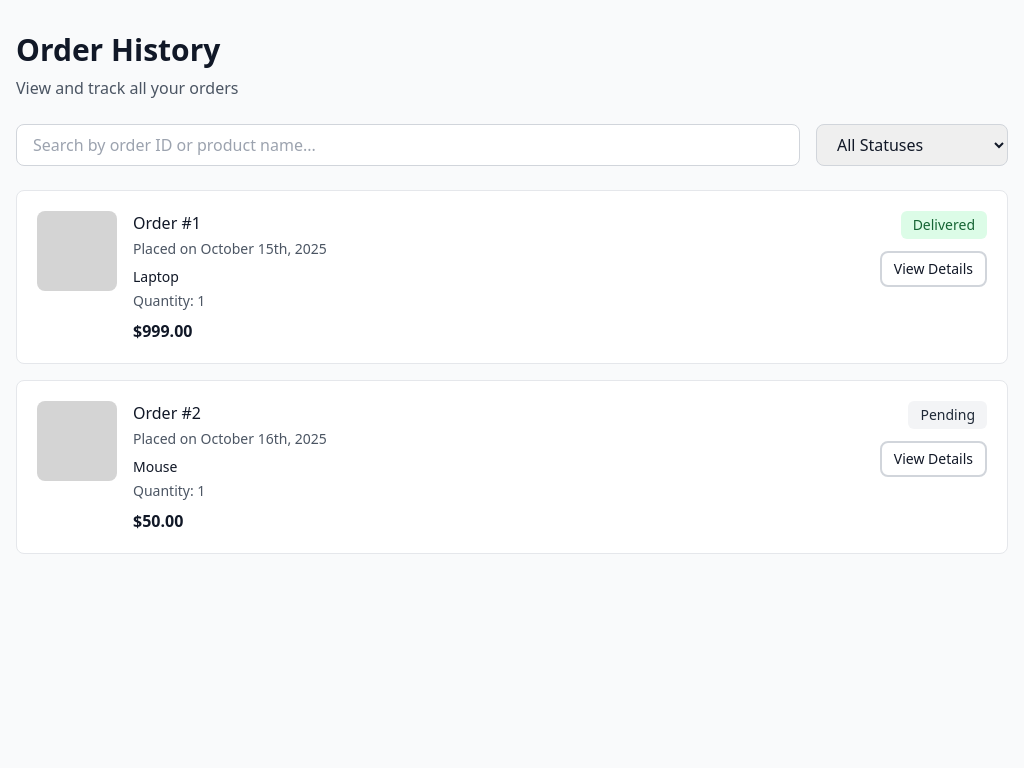
OrderHistory Page › filters orders by search term
Expected: the text "Laptop" is shown, left=133, top=267, right=179, bottom=286
In the field with placeholder "Search by order ID or product name...": (408, 145) left=16, top=124, right=800, bottom=166, type "laptop"
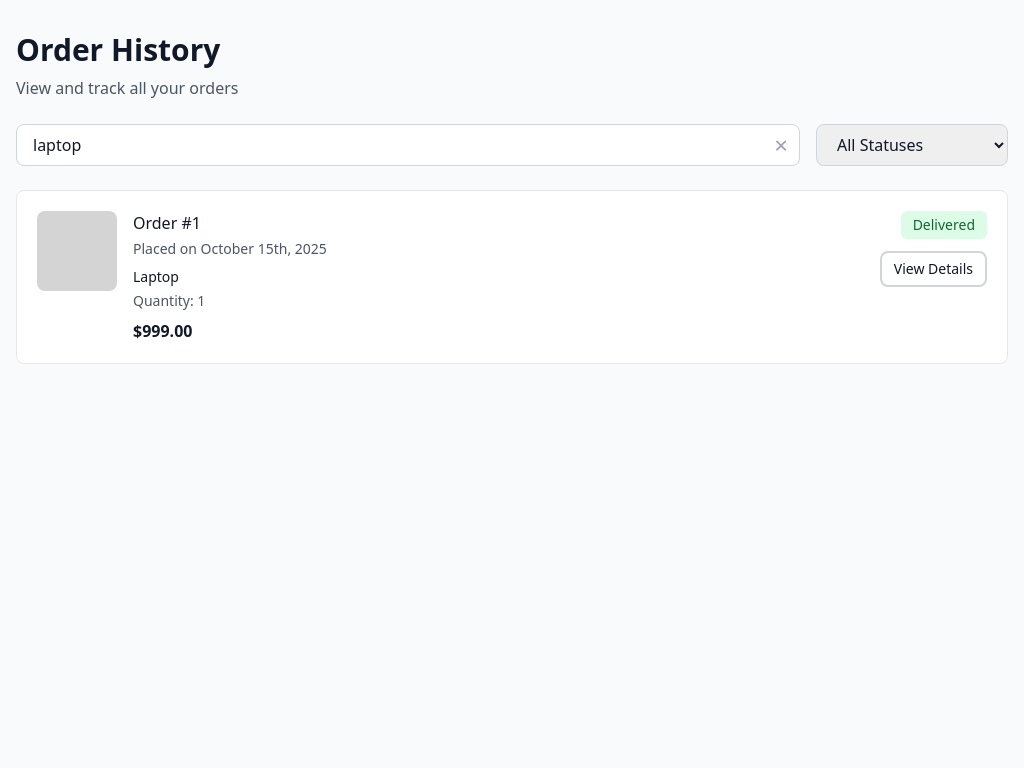
Expected: the text "Laptop" is shown, left=133, top=267, right=179, bottom=286
Expected: the text "Mouse" is gone
